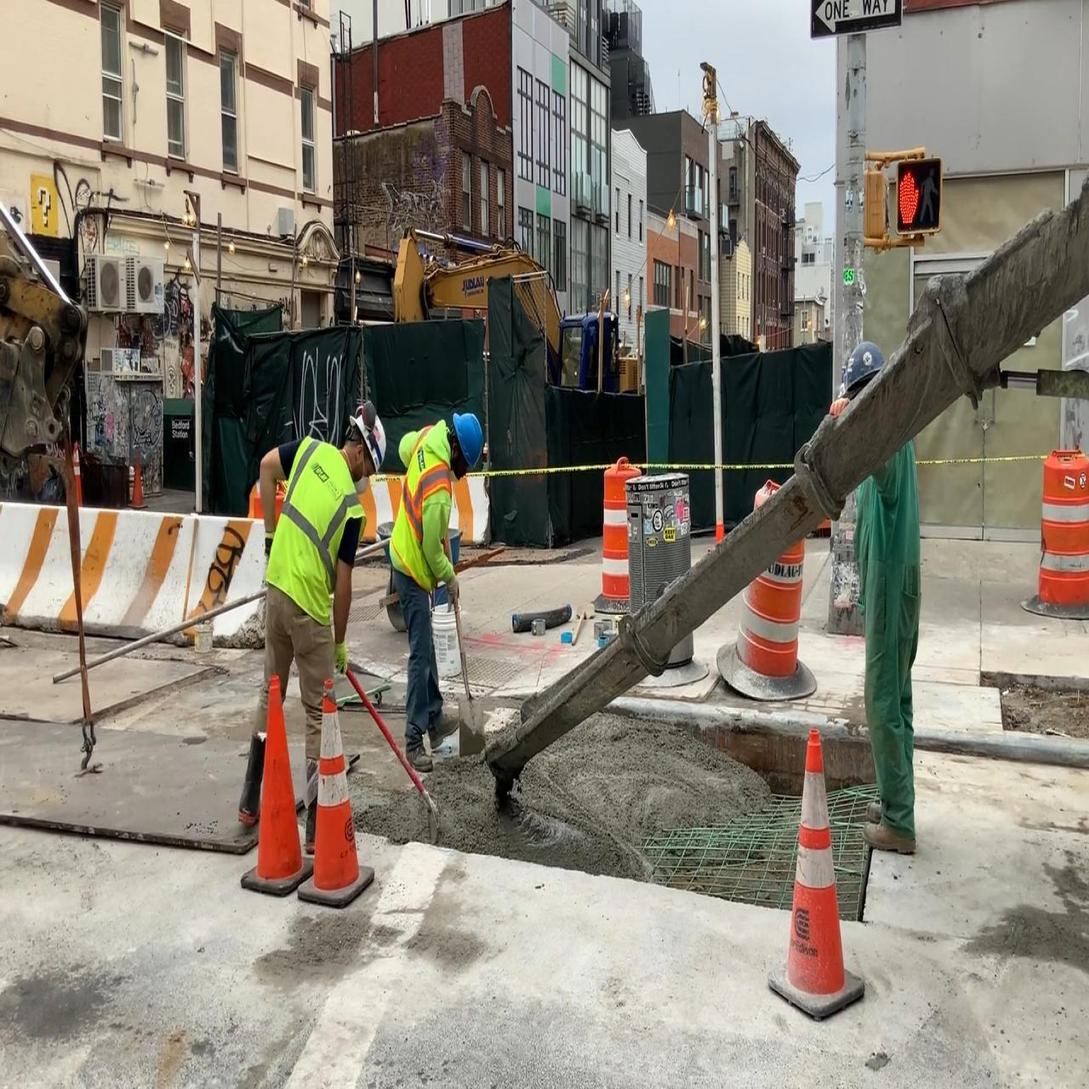NO_Safety_Vest: (857, 456, 921, 621)
Person: (241, 396, 389, 846), (829, 342, 922, 858), (390, 390, 492, 768)
Safety_Vest: (266, 429, 368, 616), (394, 423, 452, 593)
